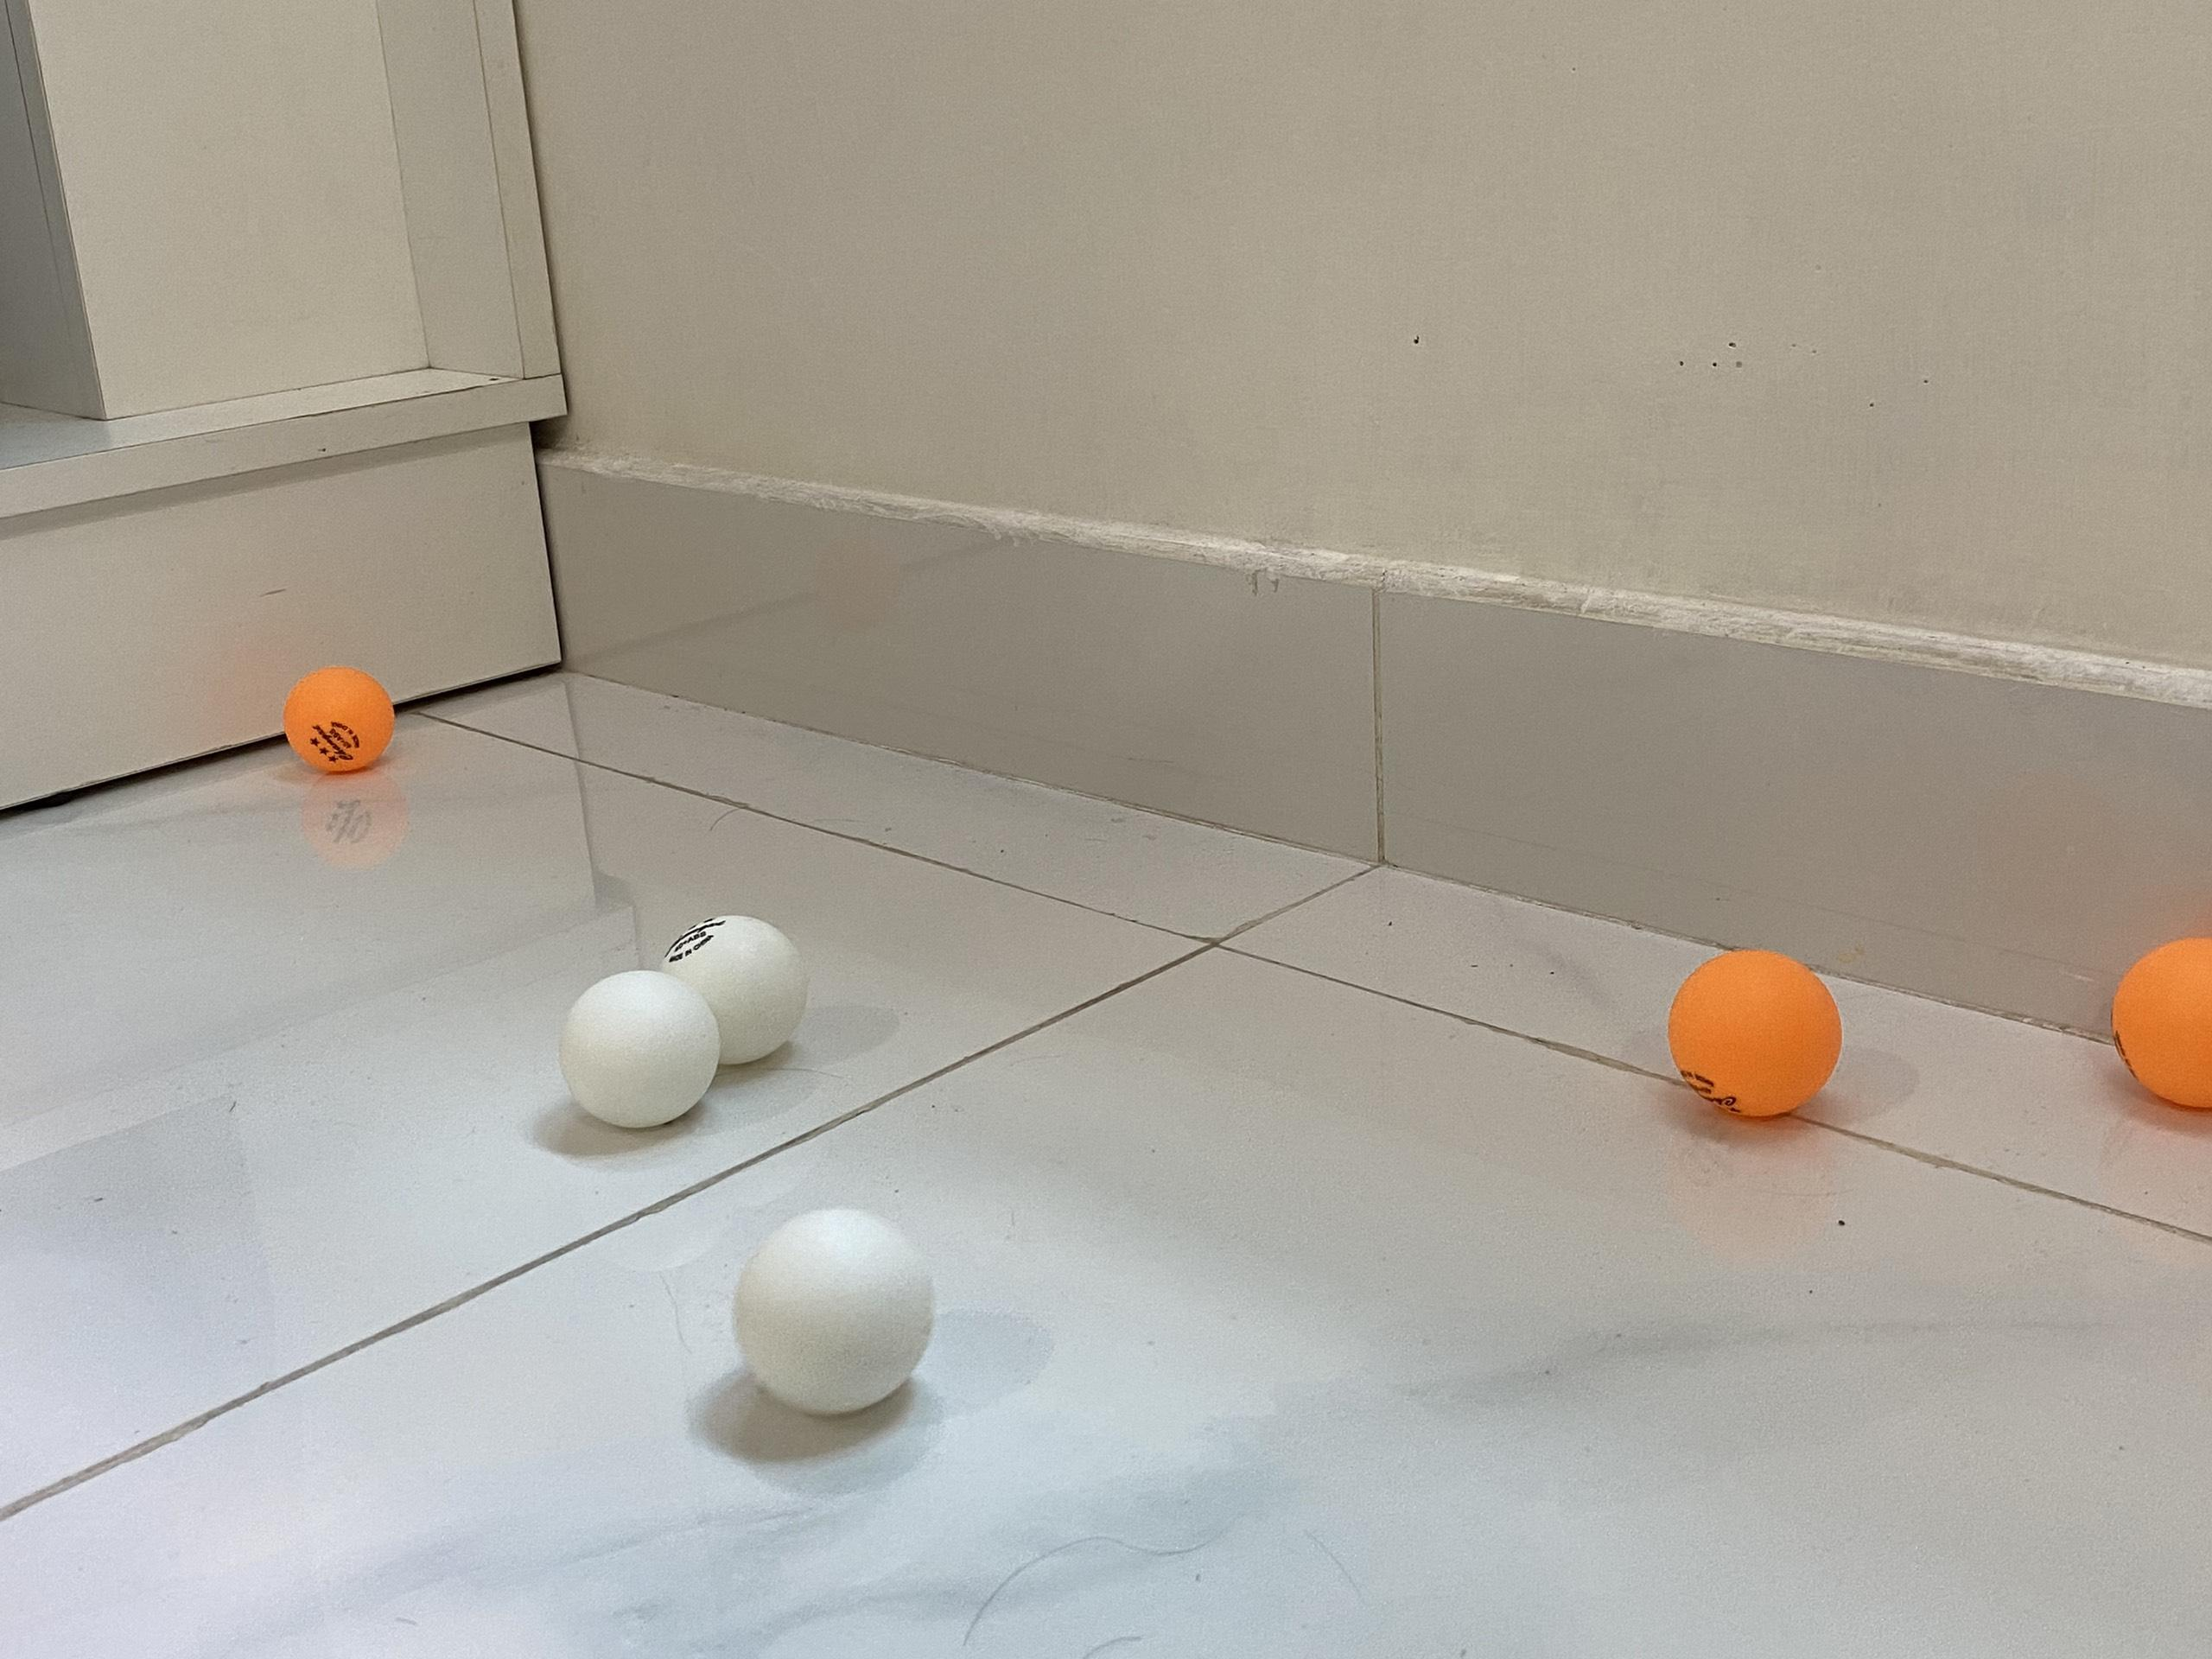oball: (1676, 948, 1843, 1119), (2113, 936, 2212, 1108), (280, 660, 397, 769)
